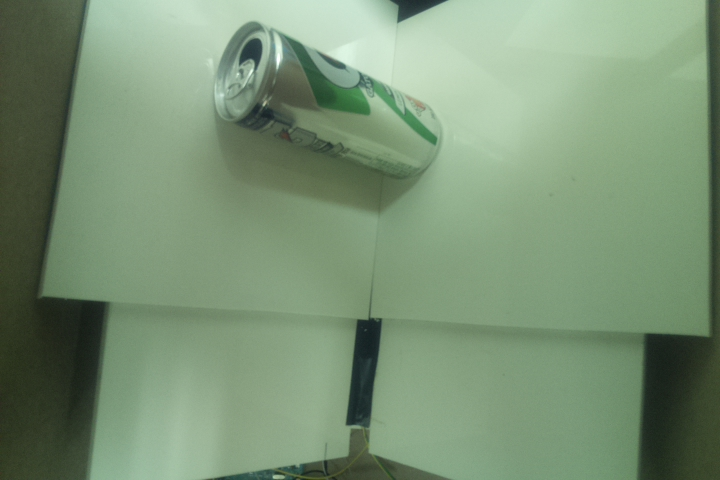can: (209, 16, 442, 179)
